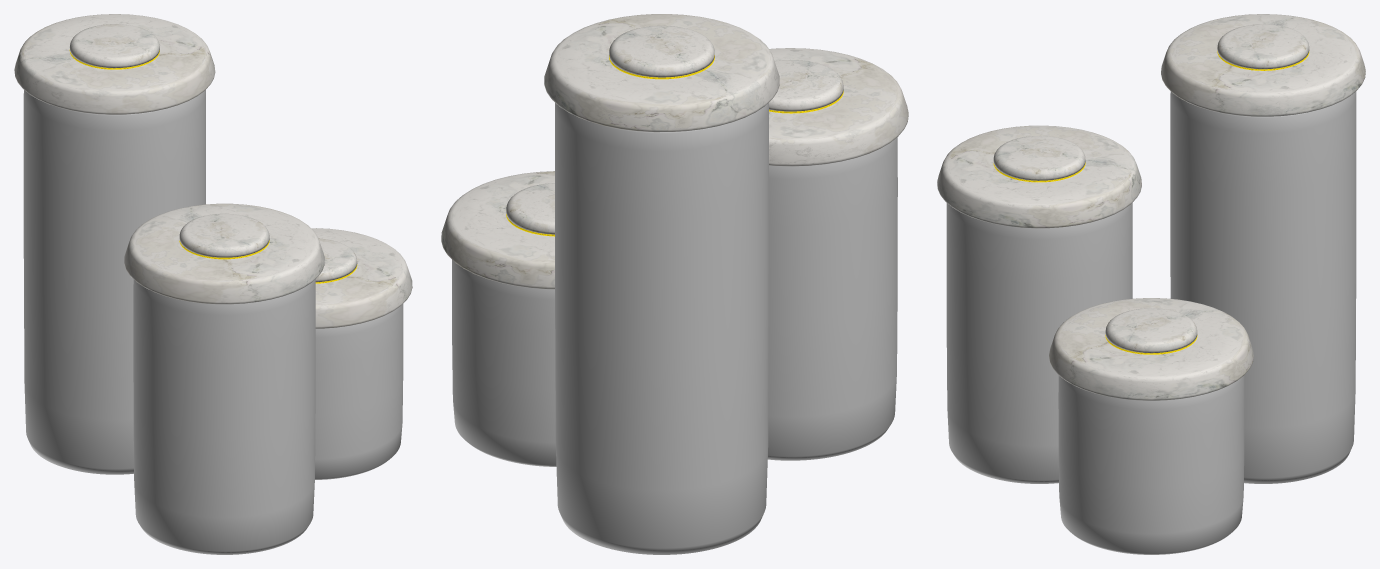
File: Kitchen Storage.fbx
3 views of the same model, side by side, from view 1: azimuth 30°, elevation 25°; view 2: azimuth 150°, elevation 25°; view 3: azimuth 270°, elevation 25° (orthographic). The views are drawn at different scales.
Parts seen in each view (by area): view 1: Cylinder, Cylinder.003, Cylinder.005, Cylinder.001, Cylinder.004, Cylinder.006; view 2: Cylinder, Cylinder.003, Cylinder.001, Cylinder.004, Cylinder.005, Cylinder.006; view 3: Cylinder, Cylinder.003, Cylinder.004, Cylinder.005, Cylinder.006, Cylinder.001.
Boxes of the visible parts, x1,y1,x2,y2 form: Cylinder: (23,90,205,474); Cylinder.003: (133,279,315,554); Cylinder.005: (124,203,324,304); Cylinder.001: (14,14,215,114); Cylinder.004: (315,304,403,479); Cylinder.006: (311,228,412,328); Cylinder: (555,103,768,554); Cylinder.003: (767,137,897,460); Cylinder.001: (544,14,779,132); Cylinder.004: (452,260,556,466); Cylinder.005: (768,48,908,166); Cylinder.006: (441,171,554,289); Cylinder: (1170,91,1356,483); Cylinder.003: (946,203,1132,483); Cylinder.004: (1058,375,1244,554); Cylinder.005: (937,125,1141,228); Cylinder.006: (1049,298,1253,400); Cylinder.001: (1161,14,1365,116).
Size of the model in its own units: 666 by 800 by 766.
